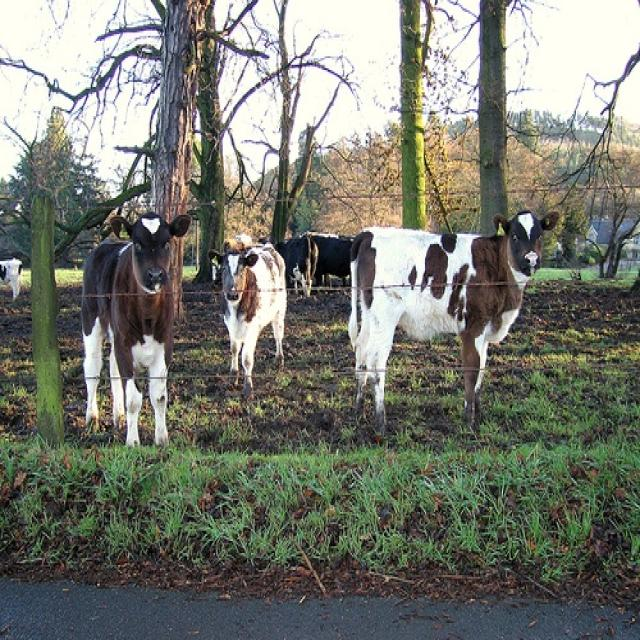cow: (346, 205, 560, 433), (74, 205, 195, 445), (206, 237, 291, 398)
